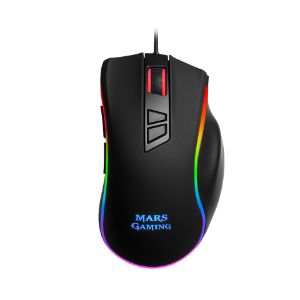mouse: (93, 49, 228, 269)
